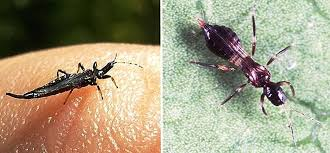Phlaeothripidae: (189, 14, 326, 146), (4, 48, 144, 105)
